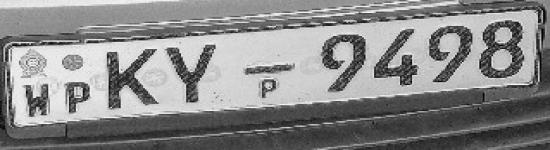-: (242, 58, 300, 79)
4: (371, 25, 422, 91)
8: (478, 18, 527, 82)
9: (422, 22, 476, 87), (318, 32, 369, 94)
K: (104, 45, 162, 112)
P: (62, 78, 93, 114)
W: (21, 79, 54, 119)
Y: (164, 41, 222, 107)
